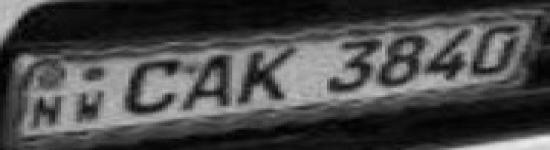0: (472, 21, 524, 79)
3: (326, 39, 384, 94)
4: (426, 27, 475, 86)
8: (376, 33, 426, 88)
A: (182, 55, 235, 111)
C: (123, 57, 183, 117)
K: (234, 43, 298, 105)
N: (27, 93, 66, 132)
W: (74, 89, 114, 124)
